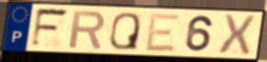6: (185, 14, 216, 54)
E: (143, 12, 182, 53)
F: (29, 7, 71, 50)
Q: (108, 11, 142, 52)
R: (68, 9, 108, 50)
X: (217, 13, 258, 56)
